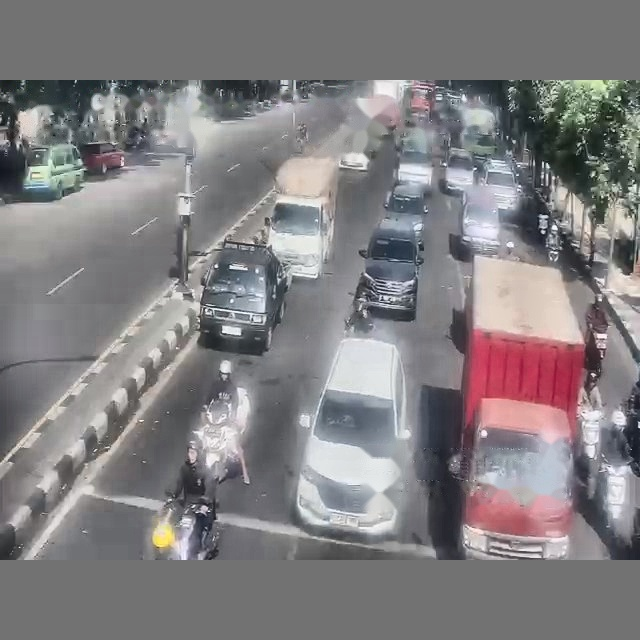Mobil: (294, 338, 410, 537), (199, 240, 291, 352), (358, 218, 423, 319), (23, 144, 85, 199), (459, 187, 500, 258), (384, 183, 428, 249), (394, 130, 432, 192), (481, 163, 521, 217), (441, 148, 476, 194), (79, 141, 124, 174), (339, 151, 369, 171)
Motor: (193, 388, 250, 480), (152, 496, 219, 559), (576, 408, 602, 499), (344, 299, 373, 336)
Truk: (449, 256, 584, 558), (264, 157, 338, 278)
